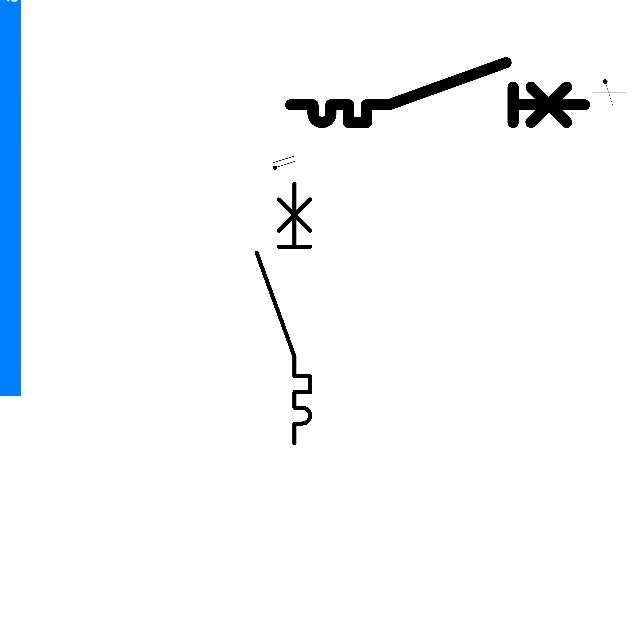interruptor_termomagnetico: (283, 55, 592, 130), (250, 176, 317, 449)
